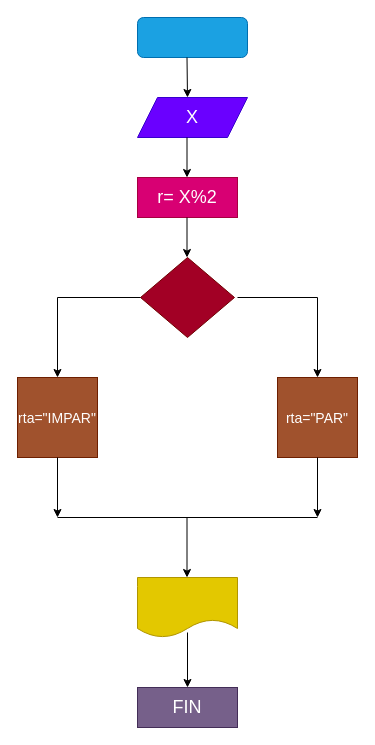
This 375x745 diagram has some shape labels left out. Here are the shapes that lost their labels. From the top down, the centre of each, then its label:
At pixel 192 37: "INICIO".
At pixel 187 297: "r=0".
At pixel 187 607: "rta".
